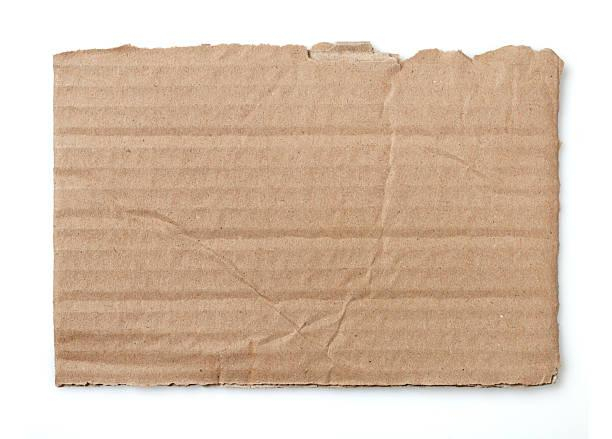plastic: (52, 40, 561, 386)
